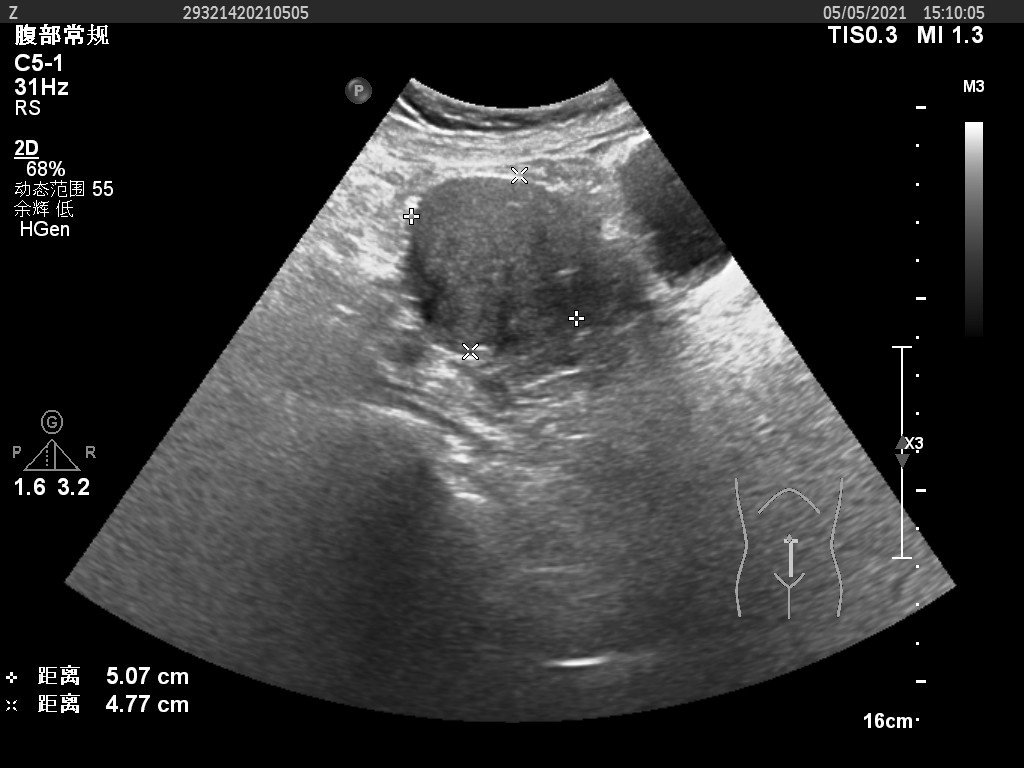肌瘤: (409, 175, 582, 354)
